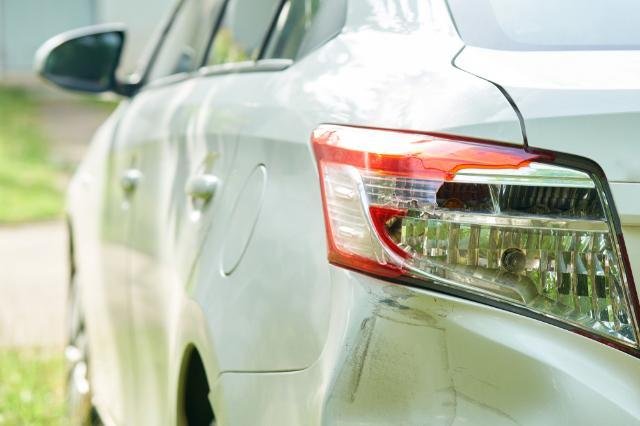dent: (320, 293, 563, 426)
lamp broken: (310, 123, 640, 360)
